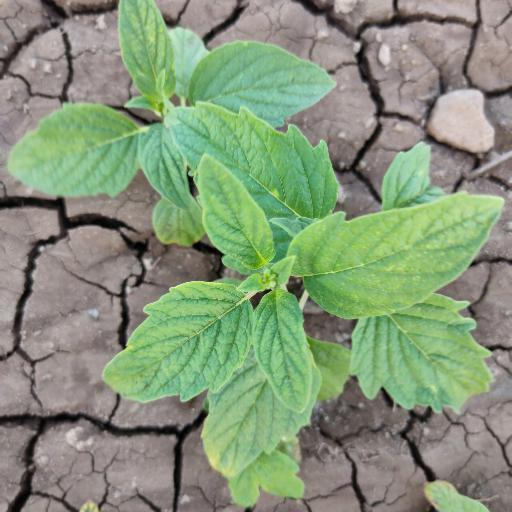crop: (111, 156, 512, 486), (5, 2, 357, 244)
